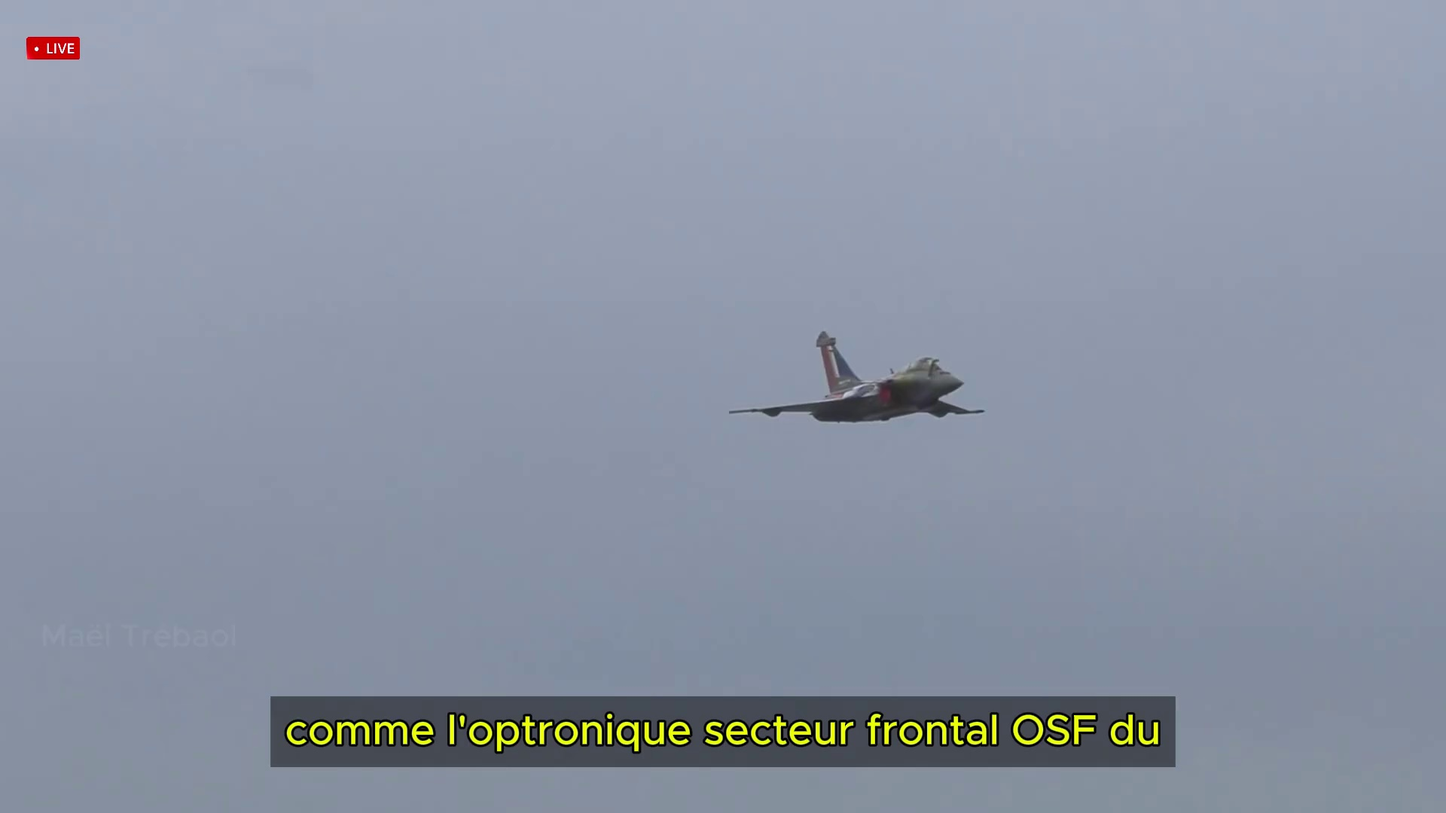Rafale: (725, 330, 985, 423)
